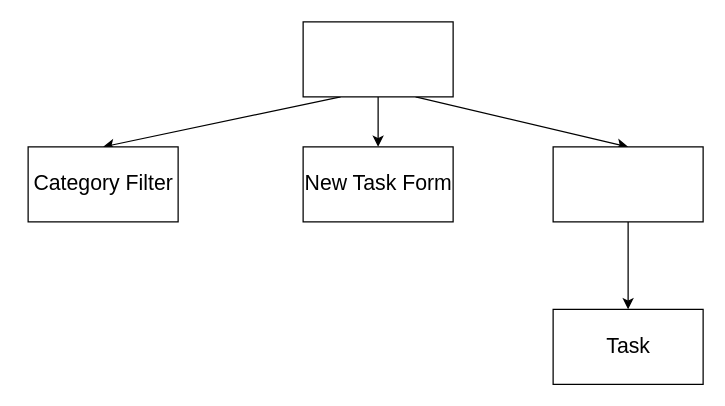
Some shapes in this 725 by 406 pixel diagram are drawn without their labels. The box of each missing label's shape, as (x1, y1, x2, y2) in pixels:
App: (302, 21, 453, 97)
Task List: (552, 146, 703, 222)
